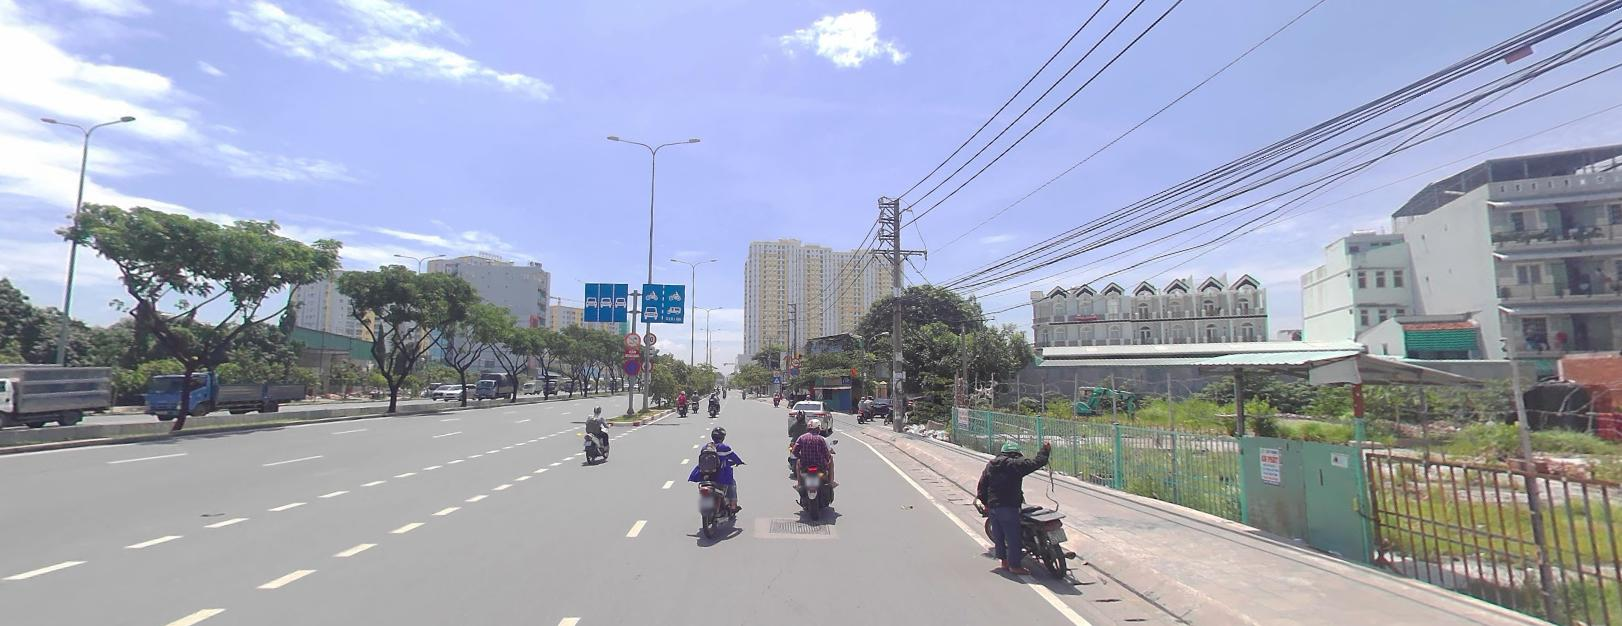Cam con lai: (625, 331, 639, 346), (640, 357, 652, 369), (791, 356, 799, 365)
Cam dung va do: (623, 358, 637, 372), (789, 366, 798, 375)
Gioi han toc do: (643, 331, 657, 344)
